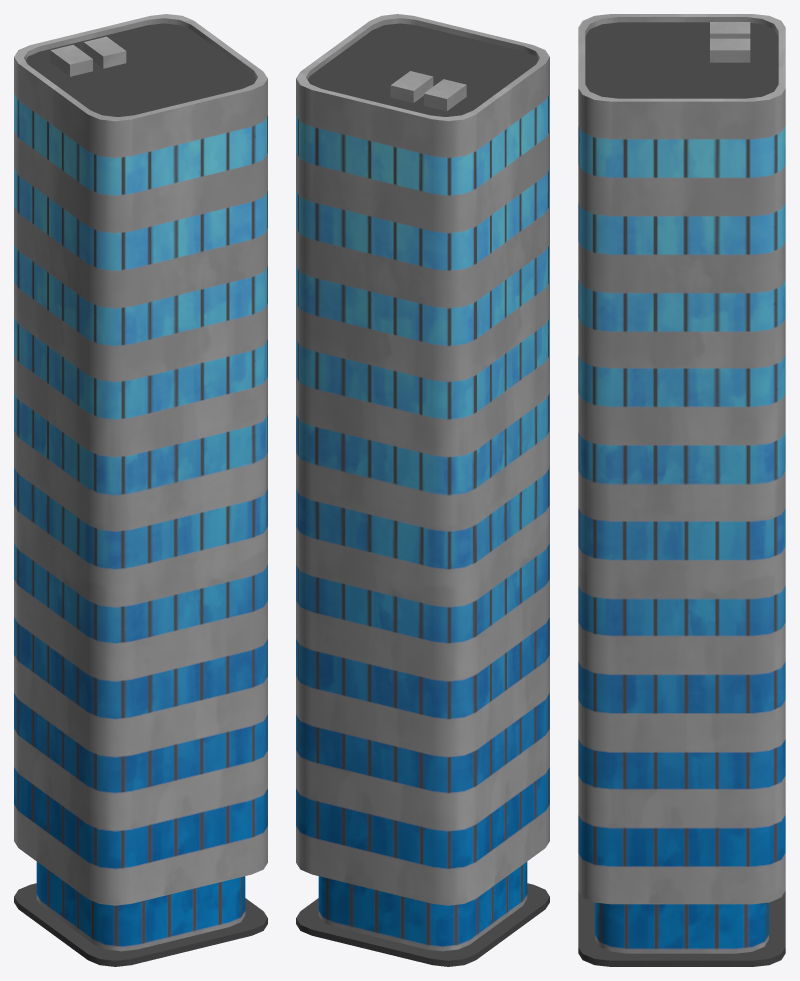
File: Building1Complete.fbx
The picture shows the model from 3 angles, left to right: view 1: azimuth 30°, elevation 25°; view 2: azimuth 150°, elevation 25°; view 3: azimuth 270°, elevation 25°; orthographic projection. The views are drawn at different scales.
Visible parts, largest first — view 1: Building1; view 2: Building1; view 3: Building1.
Part boxes in pixels (x1,y1,x2,y2): Building1: (14,14,267,966); Building1: (296,14,549,966); Building1: (578,14,785,966).
Bounding box in the file's own units: 4.28 × 19.86 × 4.28.
